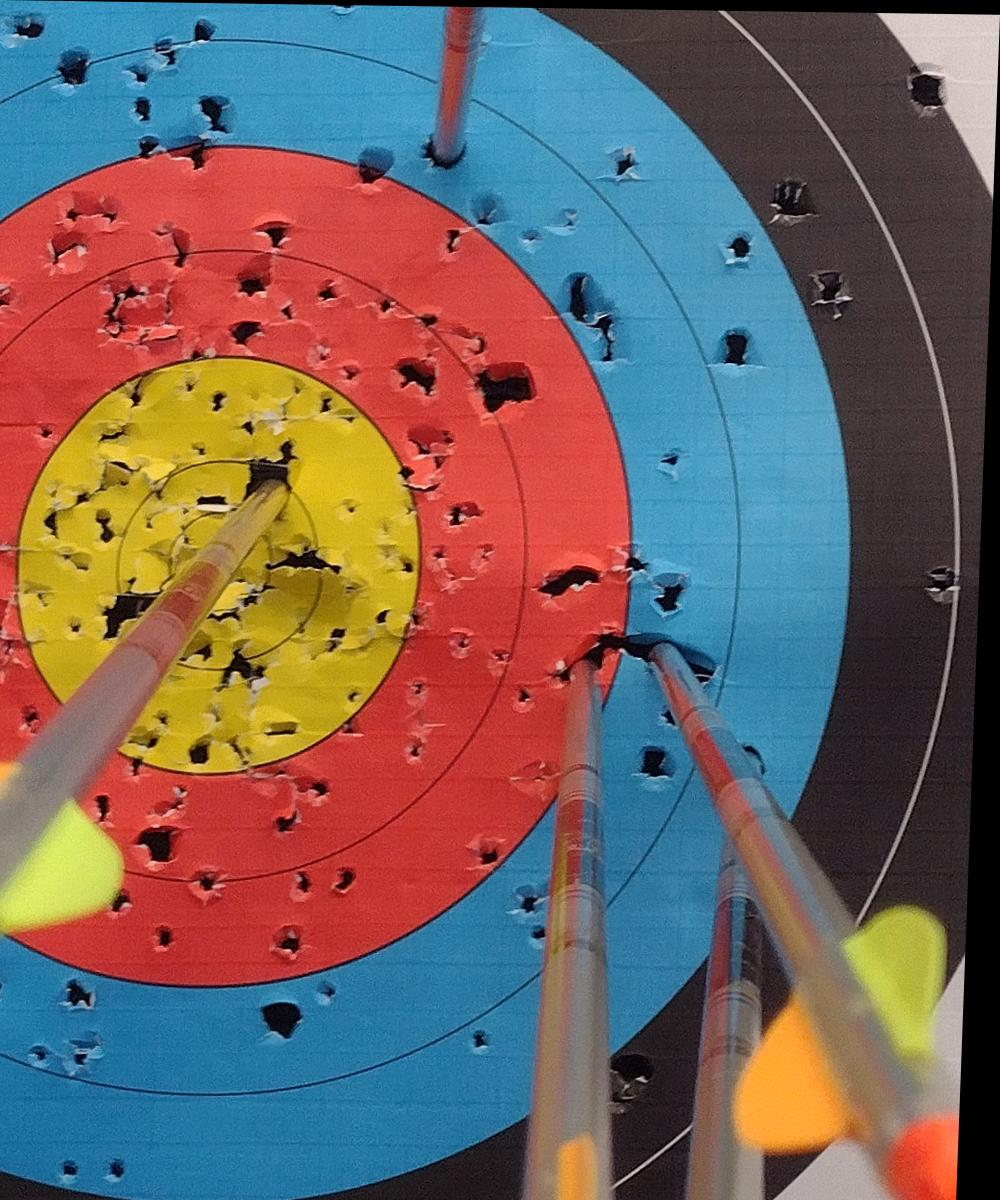10-Ring: (122, 460, 325, 668)
6-Ring: (0, 42, 742, 1095)
7-Ring: (0, 148, 636, 989)
8-Ring: (0, 254, 530, 880)
9-Ring: (0, 276, 512, 853)
Arrow: (653, 601, 998, 1200), (0, 423, 295, 976), (531, 661, 622, 1200), (698, 811, 771, 1200)
